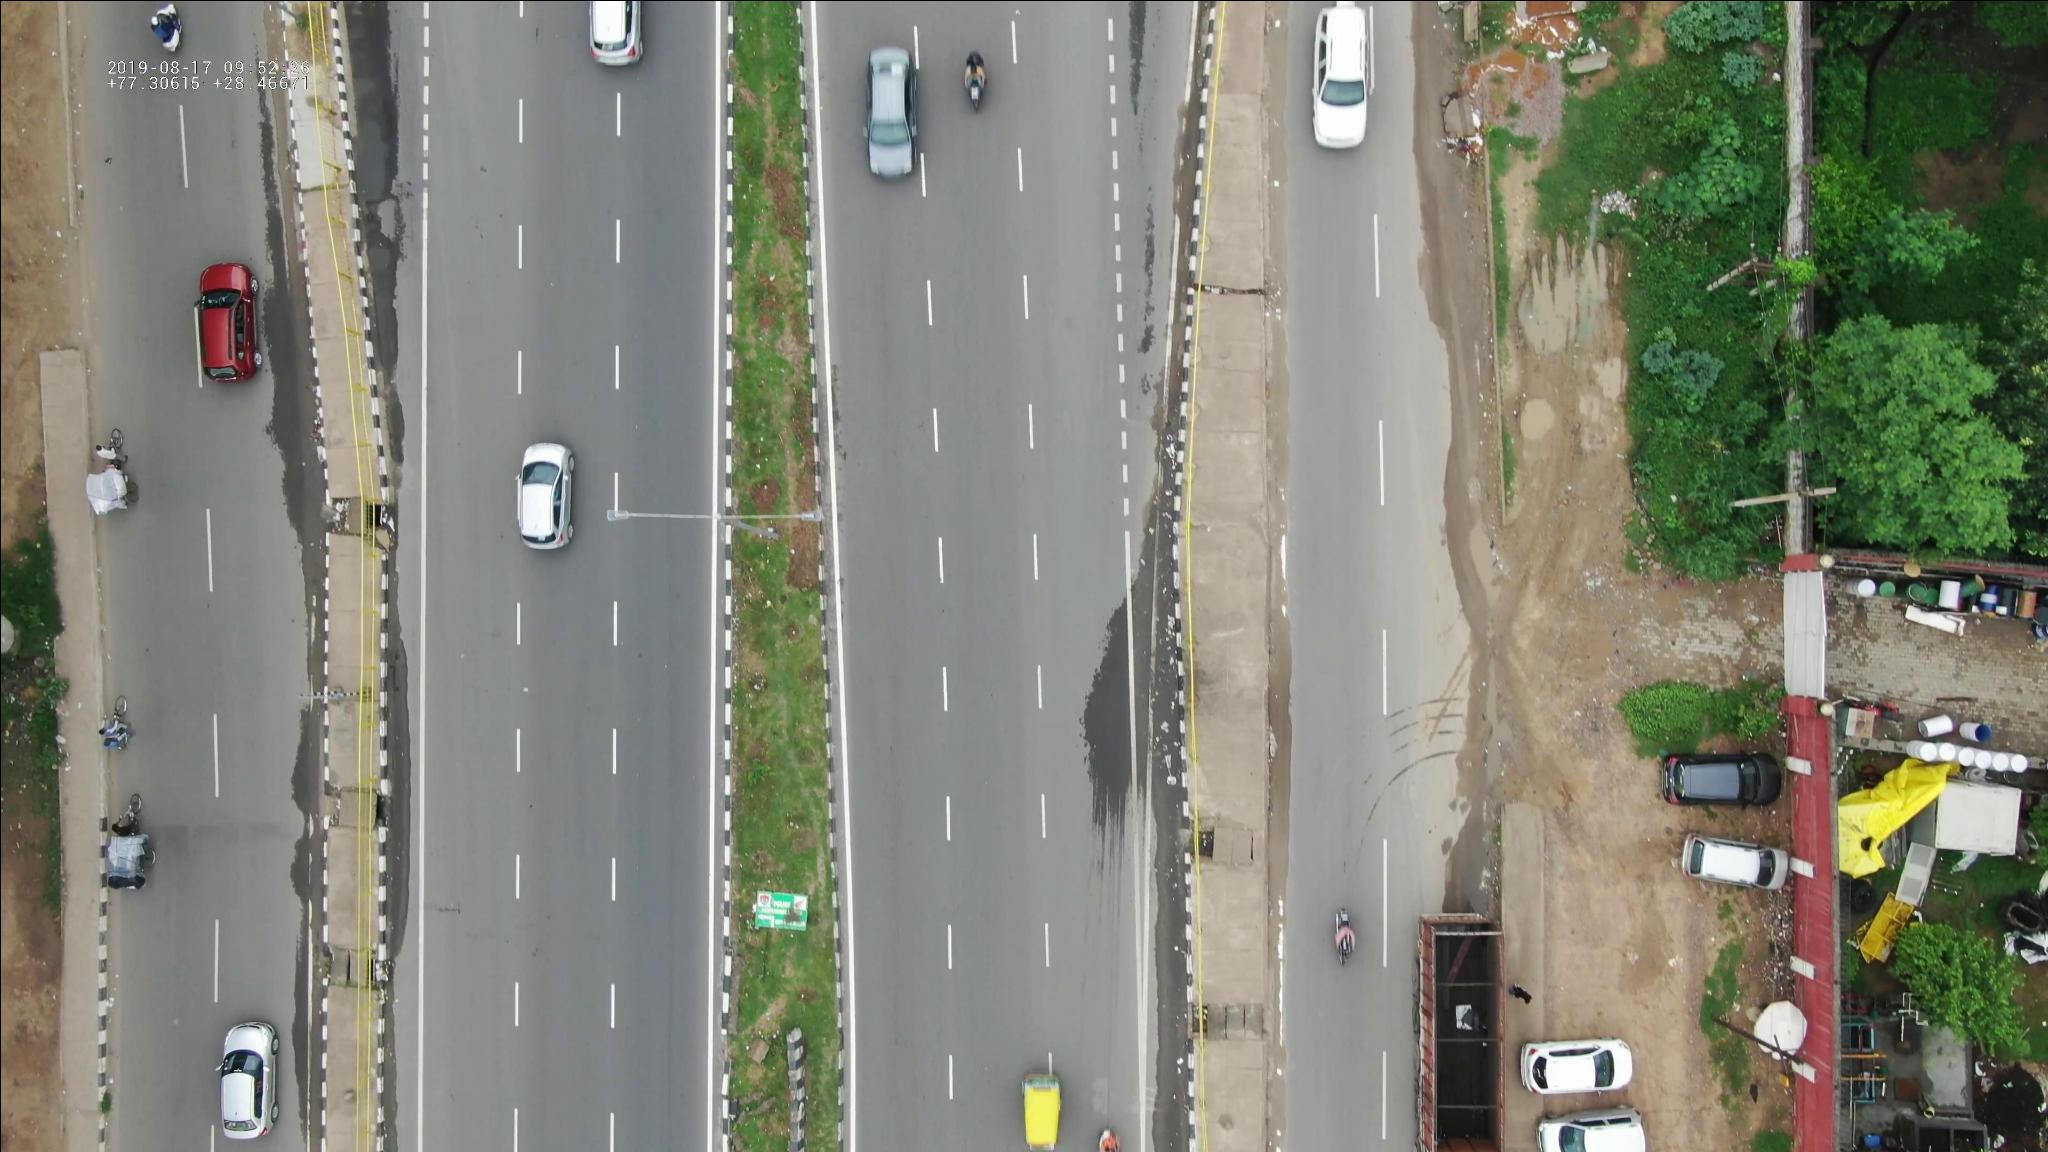Muddy_road: (1416, 266, 1525, 658), (1401, 13, 1488, 246)
